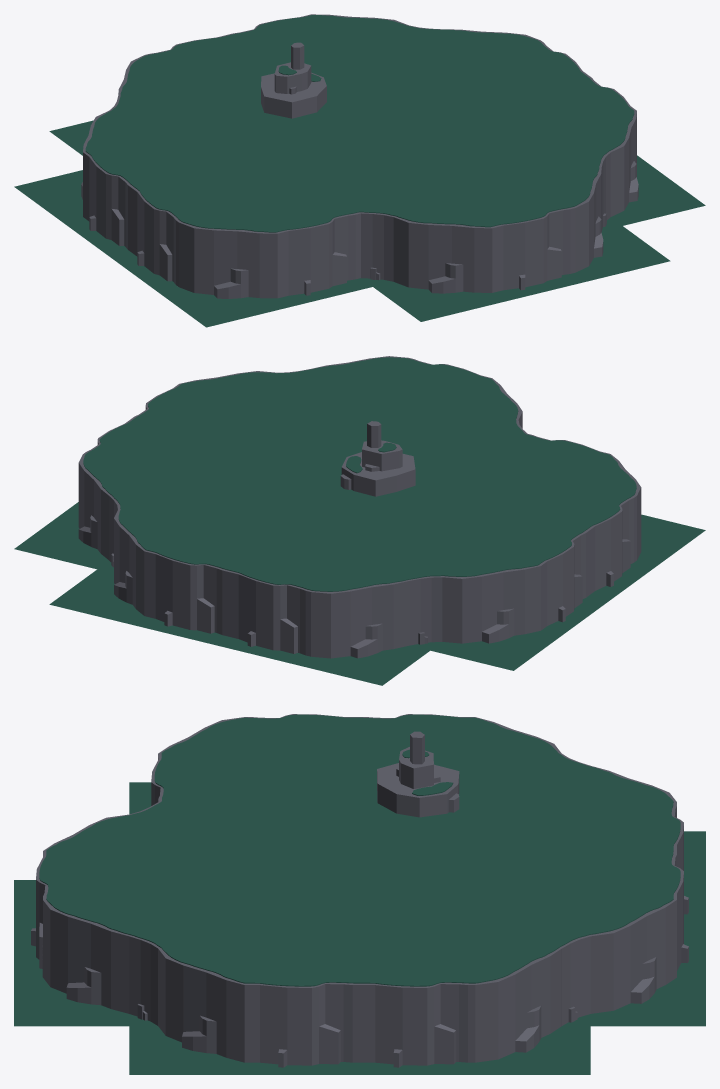
Rendered from WFCBlocks.fbx.
The picture shows the model from 3 angles, top to bottom: view 1: azimuth 30°, elevation 25°; view 2: azimuth 150°, elevation 25°; view 3: azimuth 270°, elevation 25°; orthographic projection. The views are drawn at different scales.
Parts seen in each view (by area): view 1: Plane.021, Plane.020, Plane.012, Plane.017, Plane.010, Plane.015, Plane.008, Plane.022, Plane.023, Plane.006, Plane.009, Cube.008 (+20 smaller); view 2: Plane.018, Plane.019, Plane.013, Plane.016, Plane.010, Plane.015, Plane.005, Plane.024, Plane.025, Plane.006, Plane.007, Cube.008 (+20 smaller); view 3: Plane.014, Plane.011, Plane.022, Plane.025, Plane.023, Plane.024, Plane.007, Plane.009, Plane.006, Plane.012, Plane.013, Cube.009 (+20 smaller).
Part boxes in pixels (x1,y1,x2,y2): Plane.021: (373, 201, 503, 321); Plane.020: (158, 206, 288, 327); Plane.012: (456, 181, 587, 301); Plane.017: (242, 186, 372, 307); Plane.010: (62, 136, 192, 256); Plane.015: (110, 171, 240, 292); Plane.008: (325, 166, 455, 286); Plane.022: (540, 166, 670, 281); Plane.023: (575, 111, 705, 225); Plane.006: (229, 42, 359, 129); Plane.009: (491, 125, 622, 230); Cube.008: (193, 151, 324, 206); Plane.018: (299, 565, 429, 685); Plane.019: (431, 550, 561, 670); Plane.013: (133, 524, 263, 645); Plane.016: (216, 545, 346, 665); Plane.010: (479, 515, 609, 635); Plane.015: (527, 480, 657, 600); Plane.005: (347, 530, 477, 650); Plane.024: (14, 454, 144, 569); Plane.025: (49, 510, 179, 624); Plane.006: (312, 421, 442, 507); Plane.007: (97, 469, 228, 573); Cube.008: (443, 459, 574, 514); Plane.014: (244, 947, 359, 1074); Plane.011: (360, 947, 475, 1074); Plane.022: (14, 899, 129, 1026); Plane.025: (590, 899, 705, 1026); Plane.023: (129, 947, 244, 1074); Plane.024: (475, 947, 590, 1074); Plane.007: (475, 899, 590, 1026); Plane.009: (129, 899, 244, 1026); Plane.006: (360, 731, 475, 823); Plane.012: (14, 850, 129, 977); Plane.013: (590, 850, 705, 977); Cube.009: (475, 801, 590, 850).
Bounding box in the file's own units: 600 × 164 × 600.
